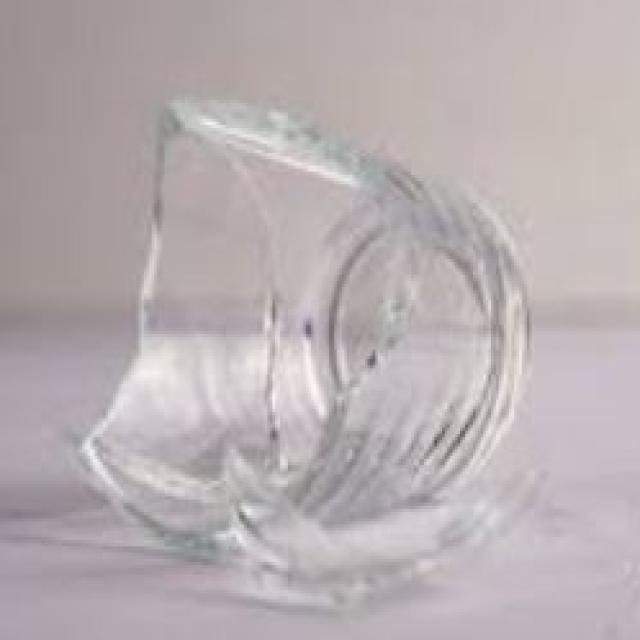electronic: (72, 88, 540, 616)
